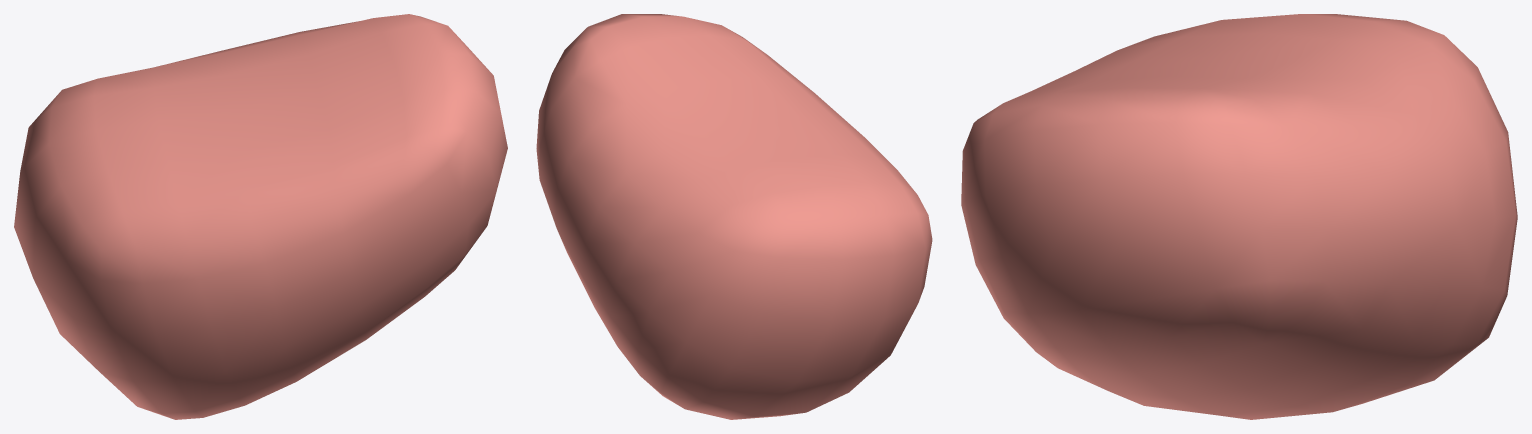
File: mixamo_humanoid_surface_leftHandThumb3.fbx
3 views of the same model, side by side, from view 1: azimuth 30°, elevation 25°; view 2: azimuth 150°, elevation 25°; view 3: azimuth 270°, elevation 25° (orthographic). The views are drawn at different scales.
Visible parts, largest first — view 1: surface_LeftHandThumb3; view 2: surface_LeftHandThumb3; view 3: surface_LeftHandThumb3.
Boxes of the visible parts, x1,y1,x2,y2 form: surface_LeftHandThumb3: (14,14,507,419); surface_LeftHandThumb3: (536,14,932,419); surface_LeftHandThumb3: (961,14,1517,419).
Size of the model in its own units: 2.34 by 1.85 by 2.12.
